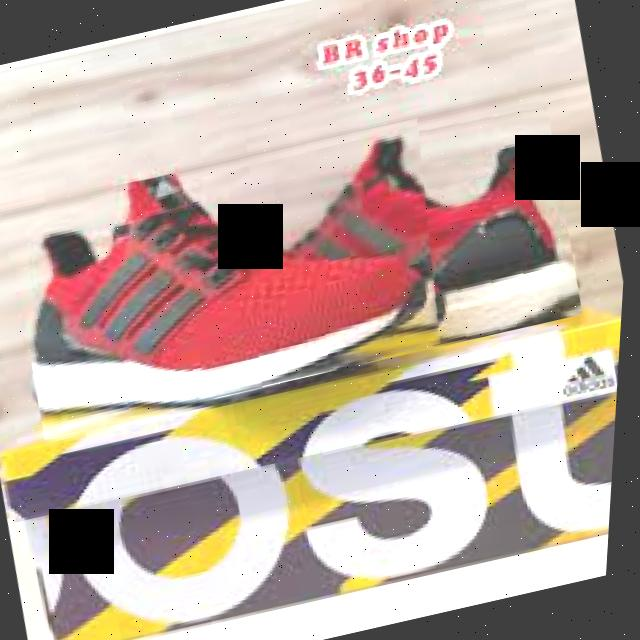shoe: (0, 90, 597, 437), (0, 118, 472, 439)
